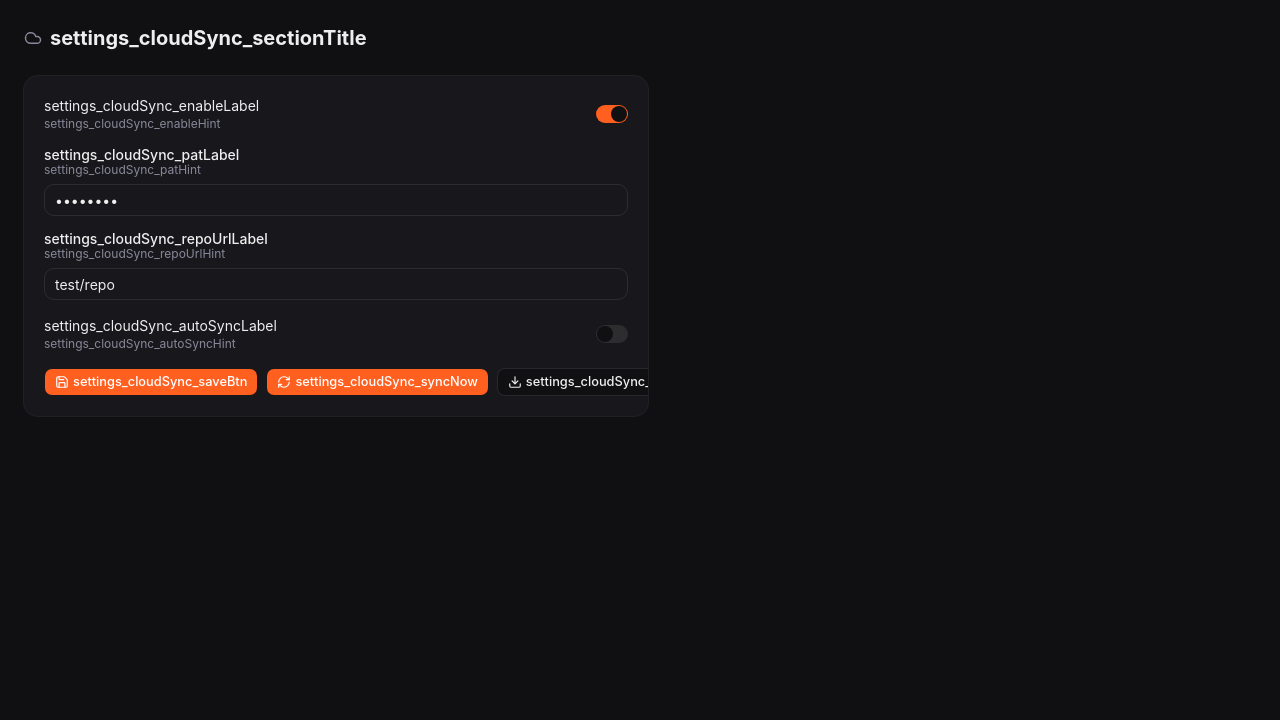
Test case: CloudSyncPage › shows restore confirmation before checking conflict
What coordinates should you click on to do the following:
click the button "settings_cloudSync_restoreFromCloud"
I would click on:
 (635, 382)
Its box is [497,368,773,396].
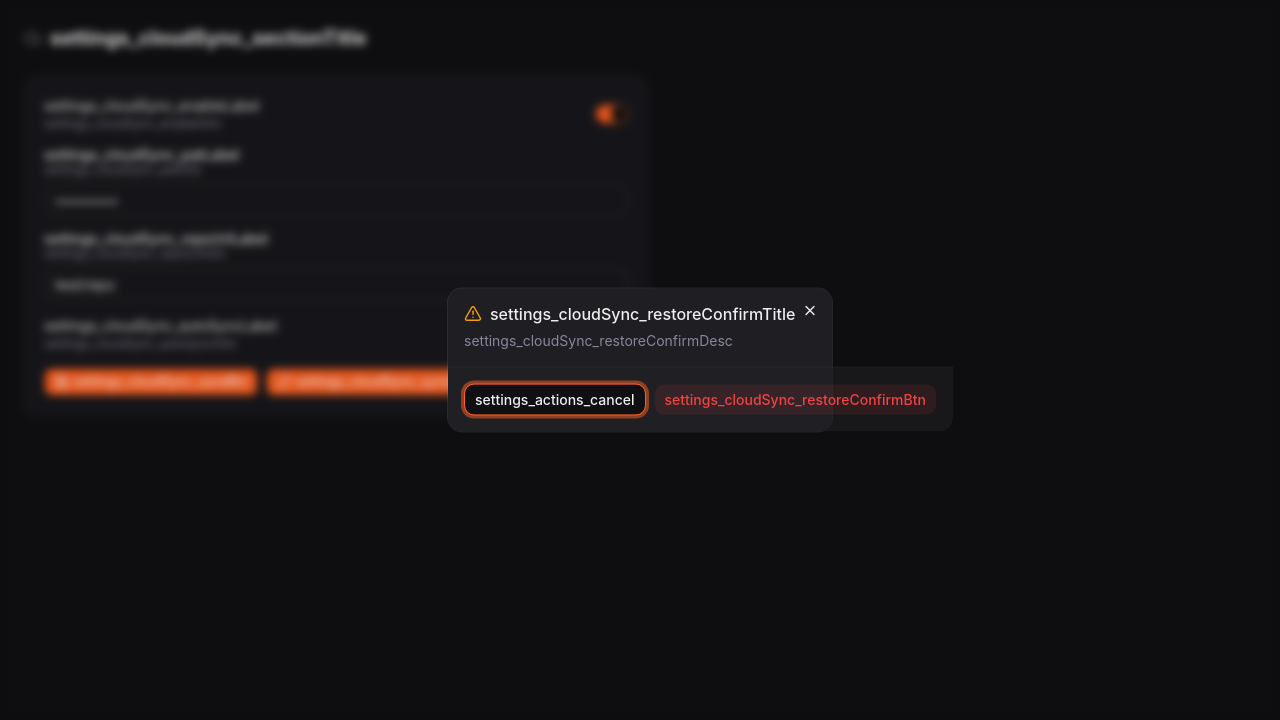
Result: the heading "settings_cloudSync_restoreConfirmTitle" is shown at [490,306,795,322]
